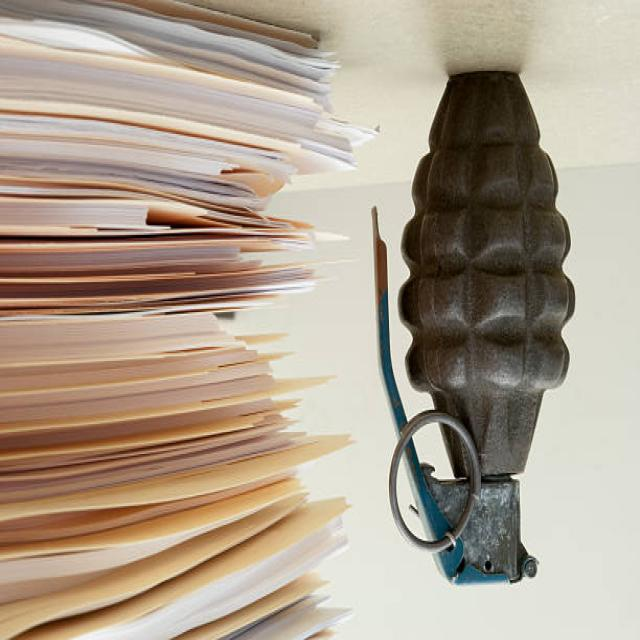grenade: (366, 60, 581, 598)
